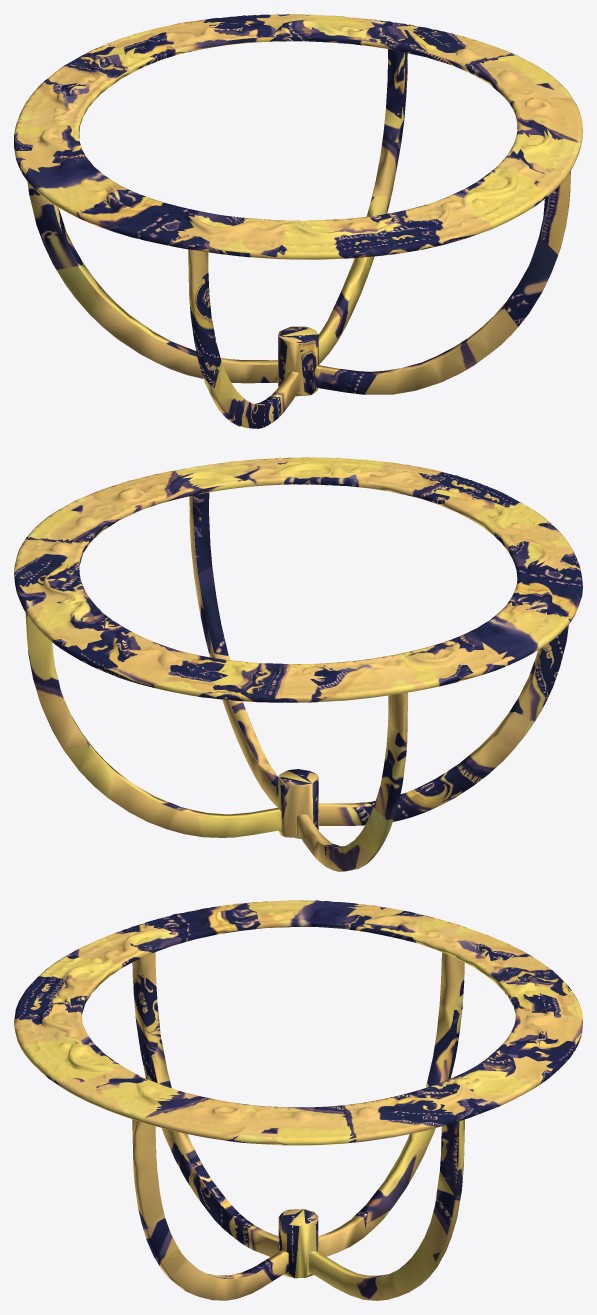
The model's file is EtherVessel_RingStand.gltf.
The picture shows the model from 3 angles, top to bottom: view 1: azimuth 30°, elevation 25°; view 2: azimuth 150°, elevation 25°; view 3: azimuth 270°, elevation 25°; orthographic projection.
Parts seen in each view (by area): view 1: EtherVessel_RingStand; view 2: EtherVessel_RingStand; view 3: EtherVessel_RingStand.
Boxes of the visible parts, x1=… form: EtherVessel_RingStand: x1=14, y1=14, x2=582, y2=428; EtherVessel_RingStand: x1=14, y1=457, x2=582, y2=871; EtherVessel_RingStand: x1=14, y1=900, x2=582, y2=1300.
Bounding box in the file's own units: 1.96 × 0.9887 × 1.96.
Materials: 1 (1 with a texture image).
